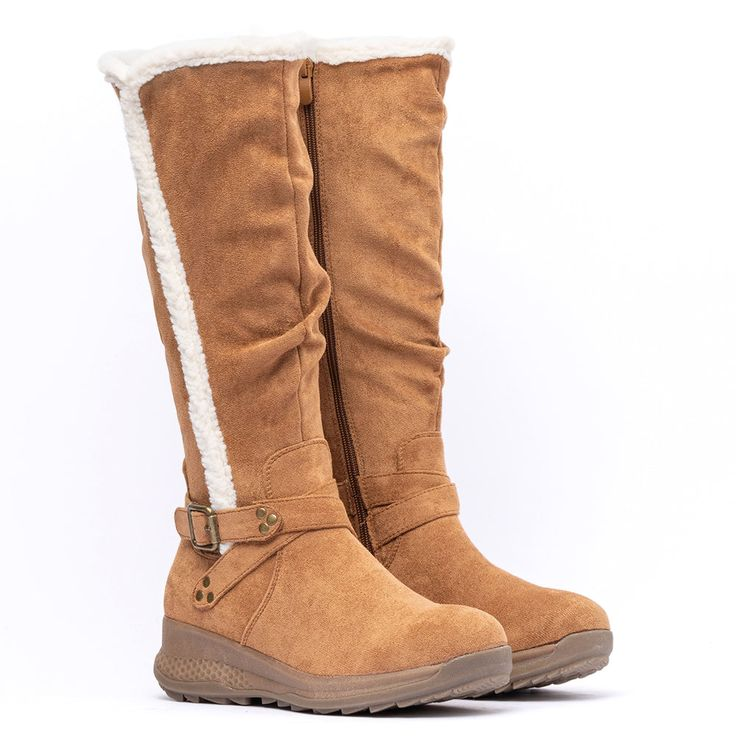gamuza: (130, 58, 611, 676)
